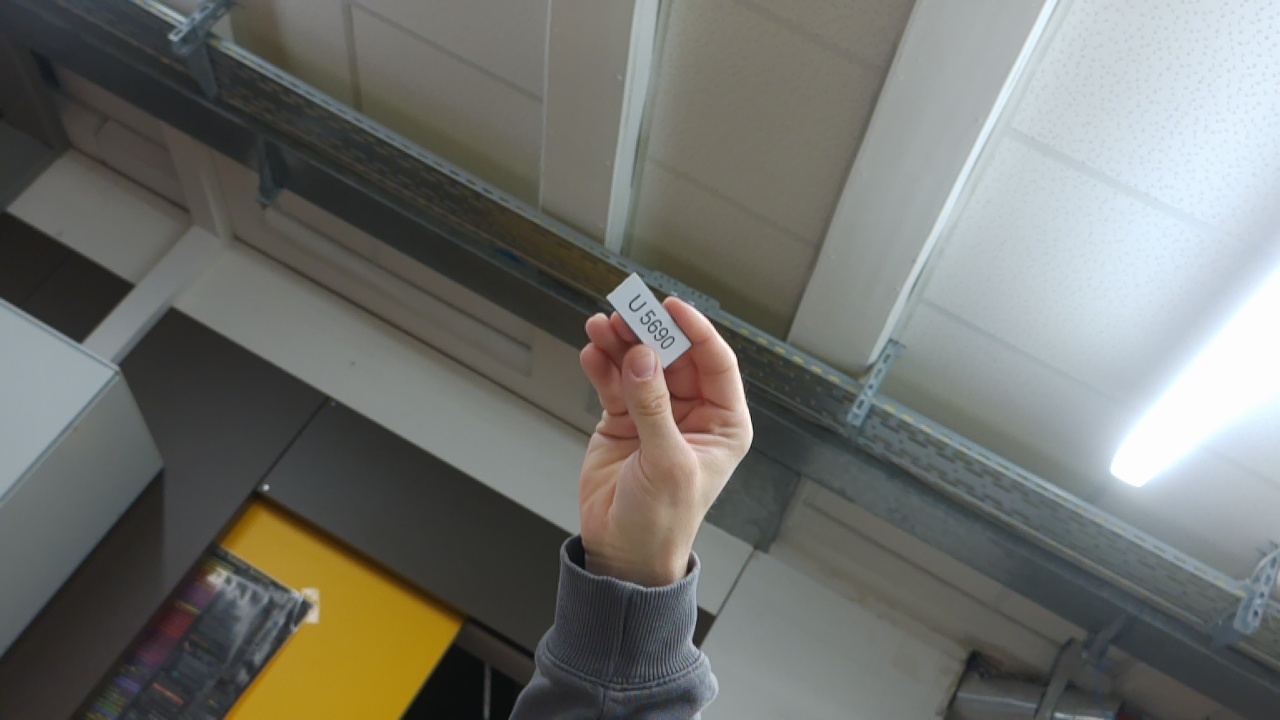license_plate: (600, 265, 694, 371)
